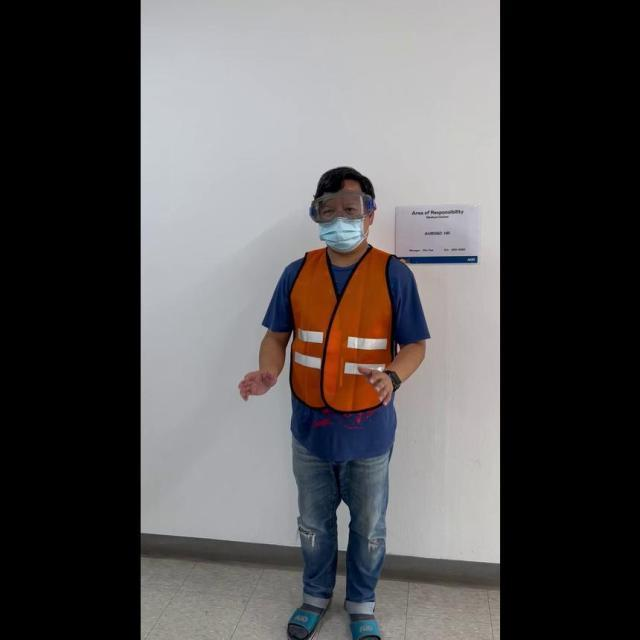bare_hand: (353, 359, 398, 407), (237, 362, 276, 403)
